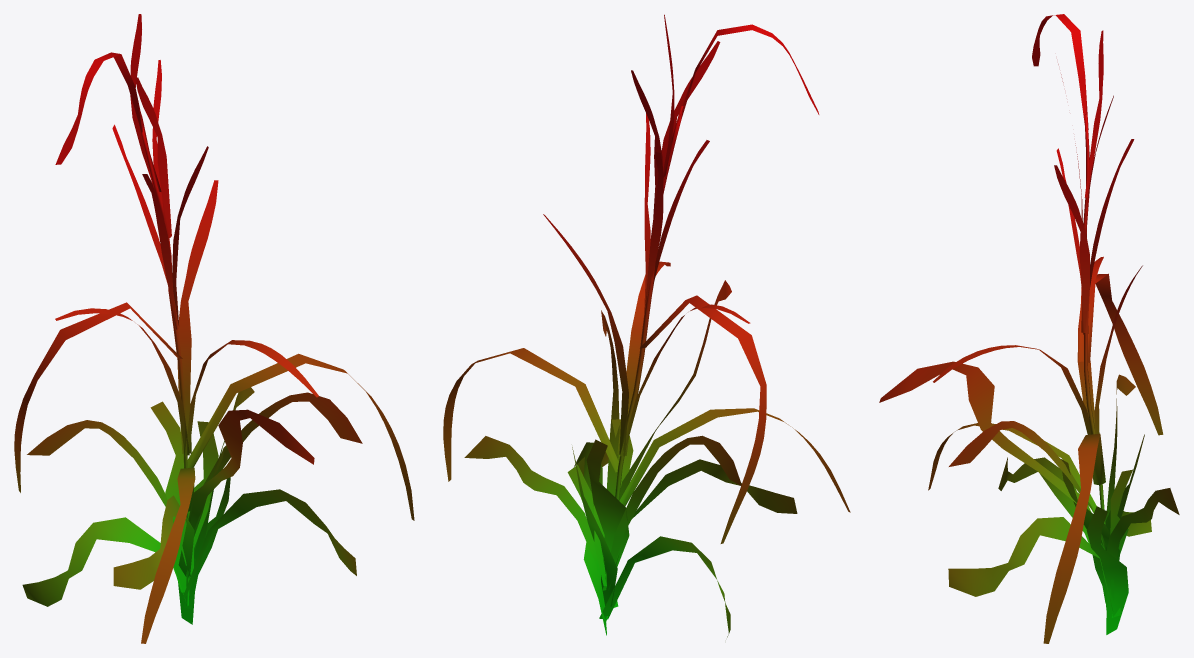
The model's file is tkbidaxia_Var6_LOD0.fbx.
3 renders of one model, left to right at view 1: azimuth 30°, elevation 25°; view 2: azimuth 150°, elevation 25°; view 3: azimuth 270°, elevation 25°, orthographic. The views are drawn at different scales.
Visible parts, largest first — view 1: _ac28_Var6_LOD0; view 2: _ac28_Var6_LOD0; view 3: _ac28_Var6_LOD0.
Boxes of the visible parts, x1,y1,x2,y2 form: _ac28_Var6_LOD0: (14,14,414,643); _ac28_Var6_LOD0: (443,14,850,637); _ac28_Var6_LOD0: (879,14,1179,643).
Size of the model in its own units: 26.62 by 43.99 by 20.66.
